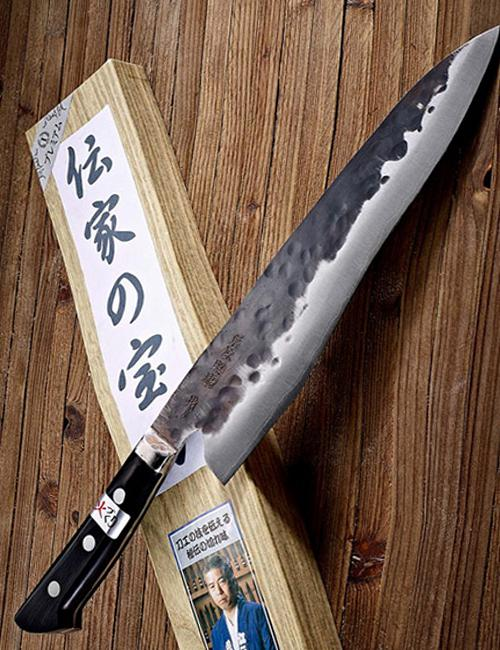knife: (19, 22, 500, 625)
